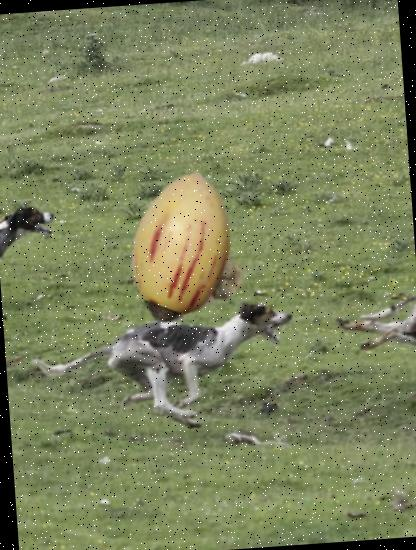Cauliflower: (126, 209, 241, 324)
Pepino: (110, 166, 259, 315)
